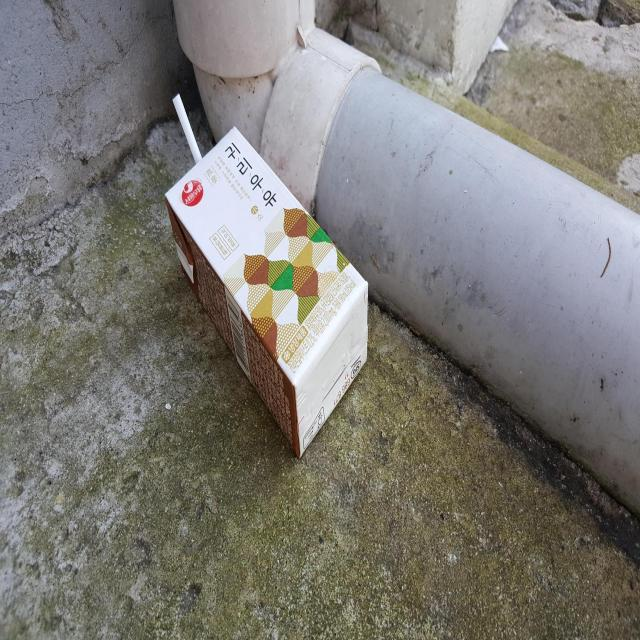paperpack: (166, 126, 368, 455)
